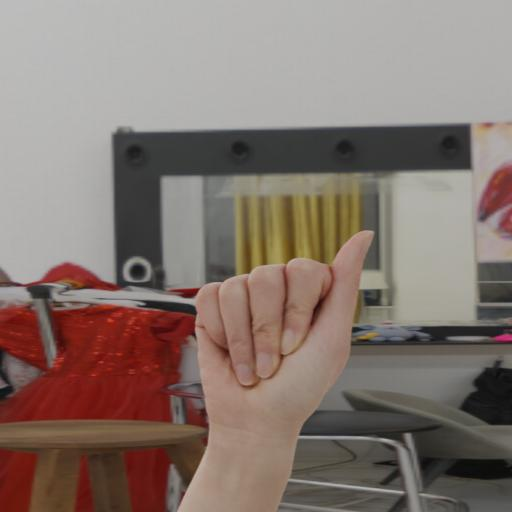A: (183, 219, 382, 436)
